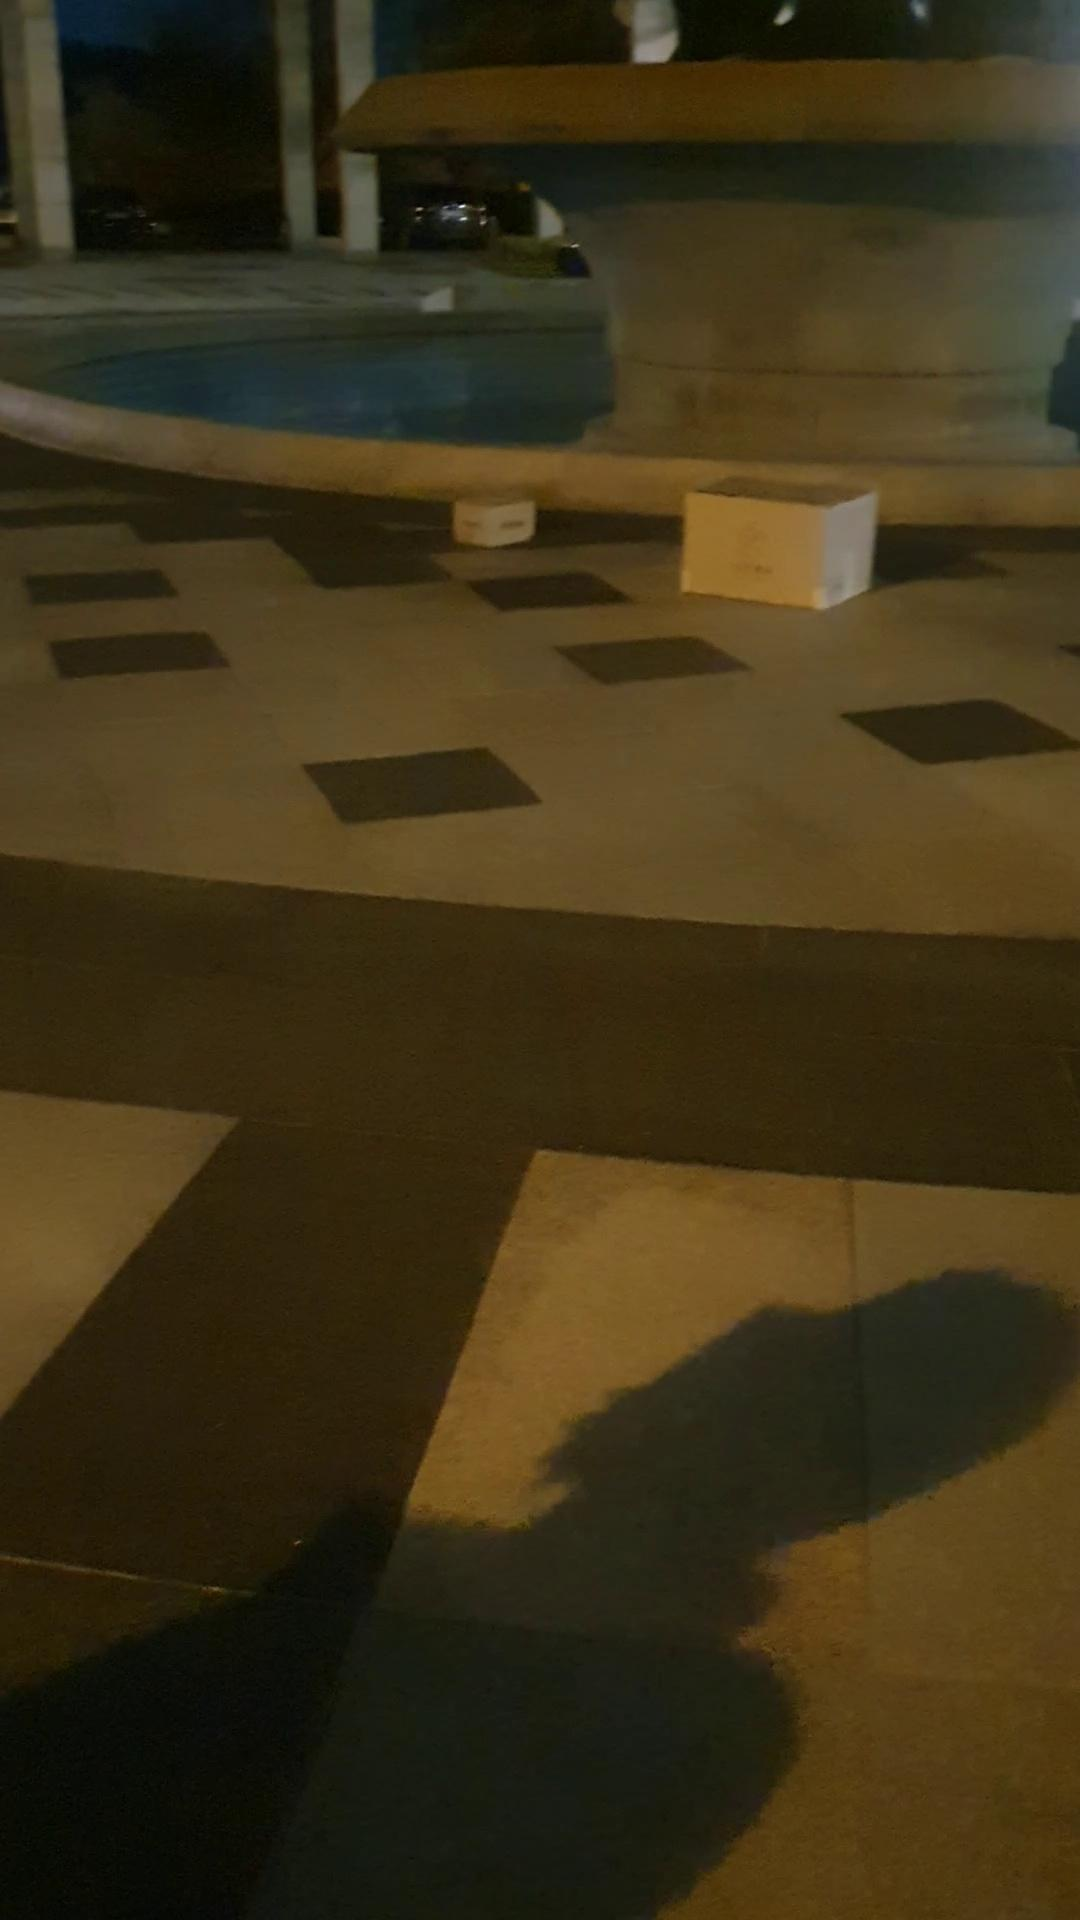Box: (653, 469, 894, 620), (429, 483, 547, 560)
